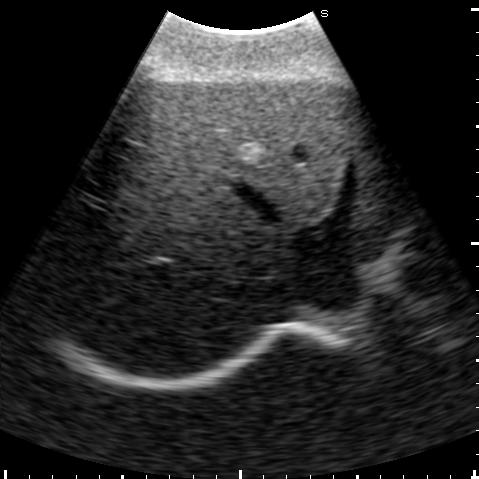S2: (353, 117, 392, 246)
S4: (134, 79, 356, 220)
S7: (55, 235, 248, 375)
S8: (97, 145, 285, 277)
Tumor: (237, 140, 264, 162)
